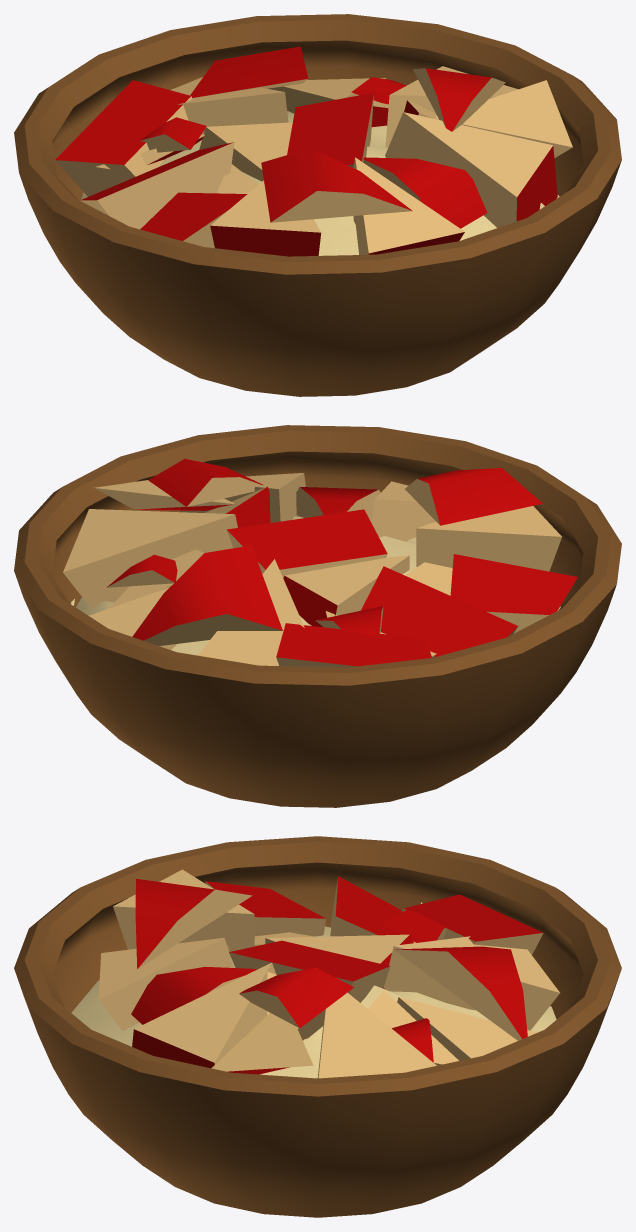
File: mesh_bowl_apple.fbx
3 renders of one model, top to bottom at view 1: azimuth 30°, elevation 25°; view 2: azimuth 150°, elevation 25°; view 3: azimuth 270°, elevation 25°, orthographic.
Visible parts, largest first — view 1: mesh_bowl_apple; view 2: mesh_bowl_apple; view 3: mesh_bowl_apple.
Part boxes in pixels (x1,y1,x2,y2): mesh_bowl_apple: (14, 14, 621, 396); mesh_bowl_apple: (14, 425, 621, 807); mesh_bowl_apple: (14, 836, 621, 1217).
Size of the model in its own units: 0.2166 by 0.0894 by 0.2167.
